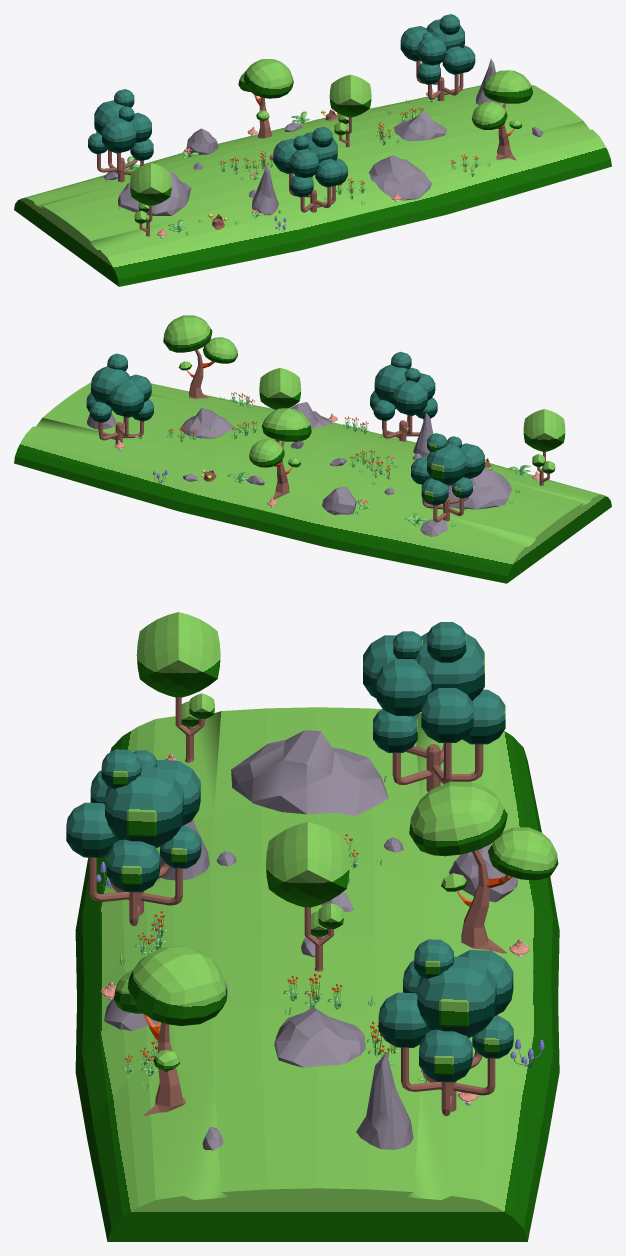
The model's file is New Summer_wall.fbx.
The picture shows the model from 3 angles, top to bottom: view 1: azimuth 30°, elevation 25°; view 2: azimuth 150°, elevation 25°; view 3: azimuth 270°, elevation 25°; orthographic projection. The views are drawn at different scales.
Visible parts, largest first — view 1: Tree.189; view 2: Tree.189; view 3: Tree.189.
Boxes of the visible parts, <box> form: Tree.189: <box>14,14,611,286</box>; Tree.189: <box>14,315,611,583</box>; Tree.189: <box>66,612,559,1241</box>.
Size of the model in its own units: 6893 by 1497 by 2987.
